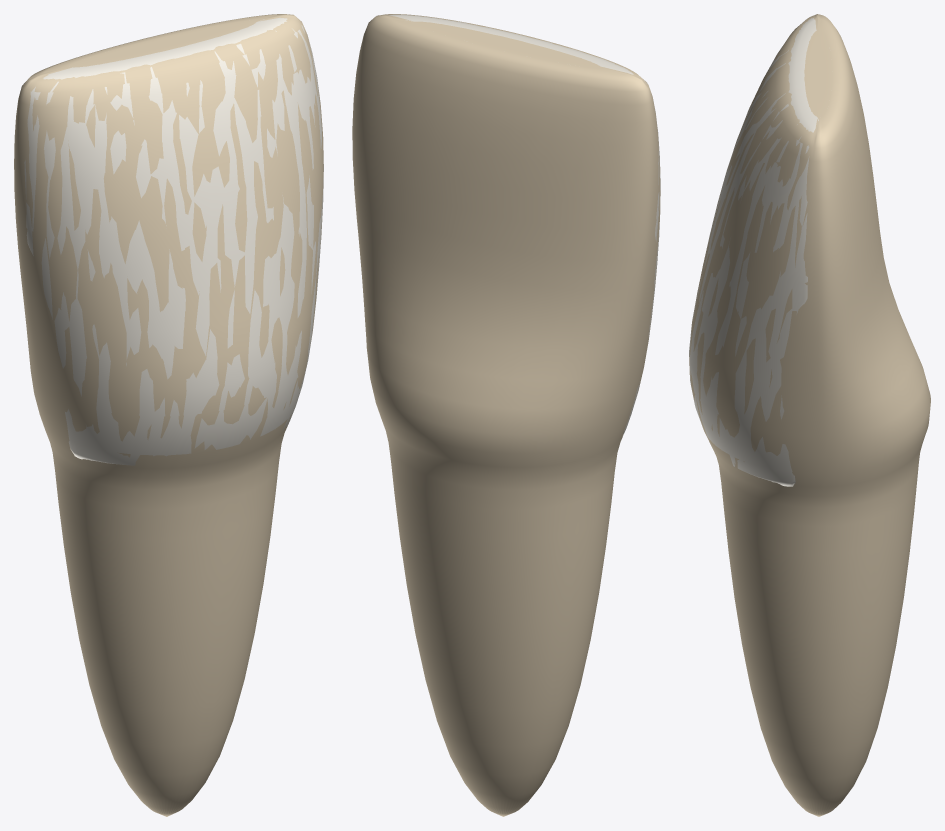
File: veneer.glb
The picture shows the model from 3 angles, left to right: view 1: azimuth 30°, elevation 25°; view 2: azimuth 150°, elevation 25°; view 3: azimuth 270°, elevation 25°; orthographic projection. The views are drawn at different scales.
Parts seen in each view (by area): view 1: tooth, veneer; view 2: tooth, veneer; view 3: tooth, veneer.
Part boxes in pixels (box(x1,y1,x2,y2)): tooth: box(14, 14, 323, 816); veneer: box(24, 17, 323, 465); tooth: box(352, 14, 660, 816); veneer: box(389, 14, 660, 435); tooth: box(689, 14, 930, 816); veneer: box(689, 18, 818, 486).
Size of the model in its own units: 0.8068 by 2 by 0.5907.
